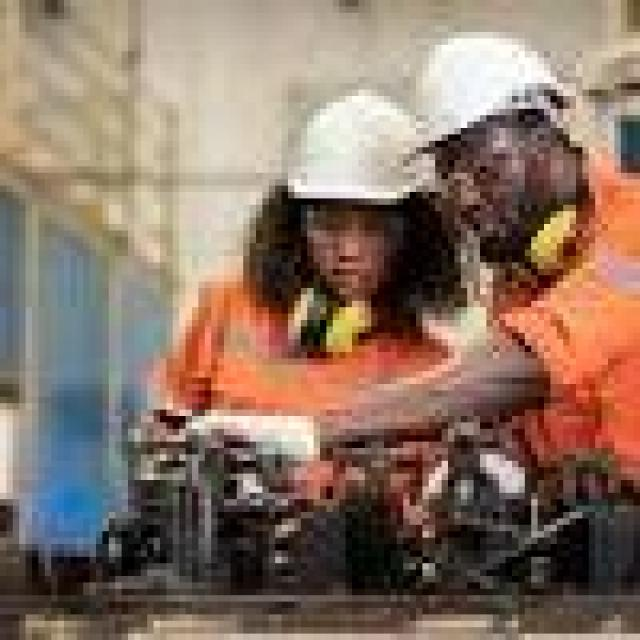Safety-Helmet: (403, 13, 634, 166), (262, 77, 461, 230)
